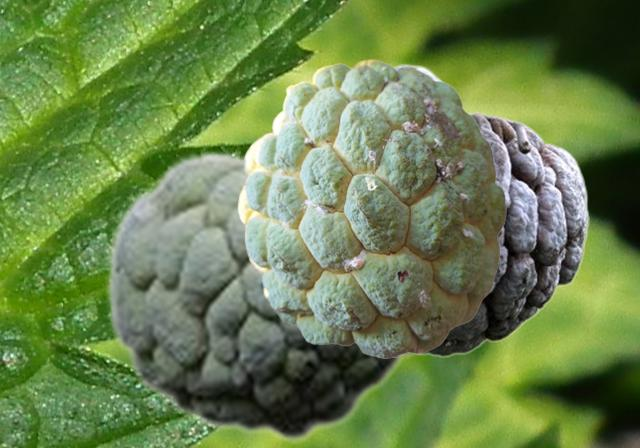atis: (105, 149, 425, 442), (237, 59, 505, 357), (354, 63, 588, 356)
